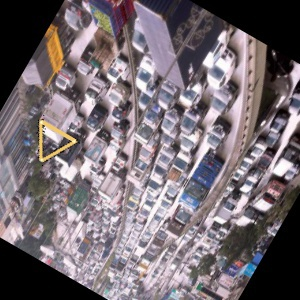triangle: (34, 115, 84, 165)
